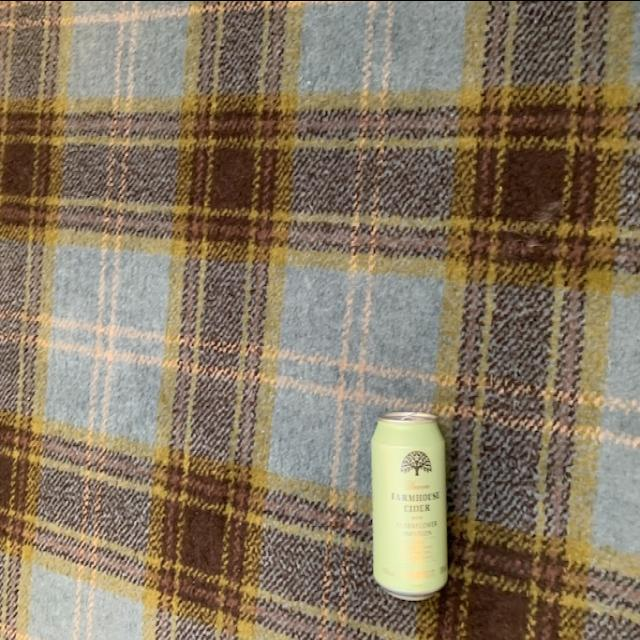Aluminum Can: (374, 412, 452, 592)
